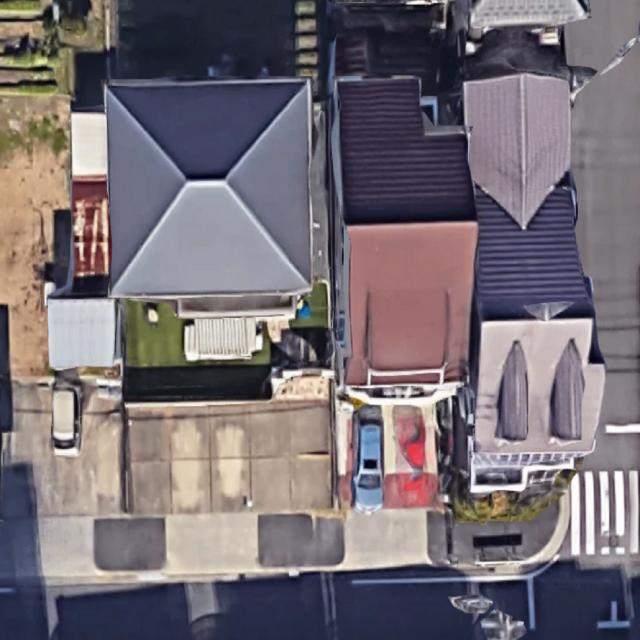Batiment: (105, 78, 312, 315), (335, 78, 478, 386), (464, 73, 595, 321), (475, 318, 605, 456)
